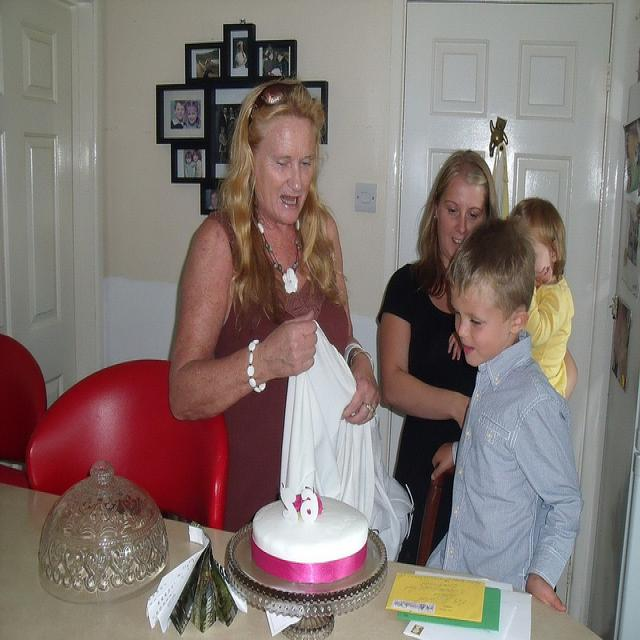chair: (28, 354, 224, 529), (0, 333, 47, 489), (415, 477, 446, 562)
dining table: (1, 462, 598, 633)
